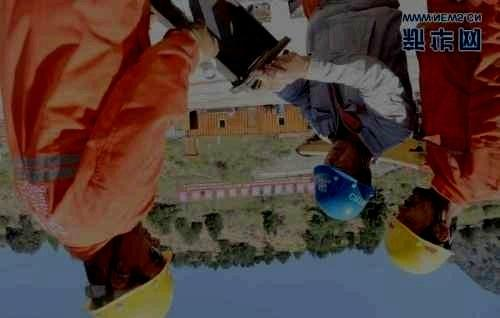helmet: (84, 222, 175, 318), (383, 187, 458, 276), (312, 138, 376, 221)
